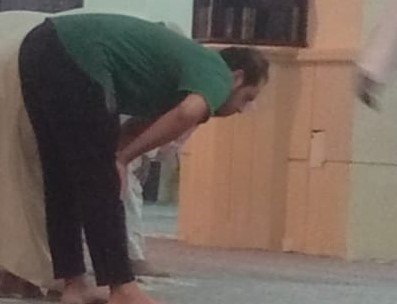ruku: (13, 14, 282, 304)
